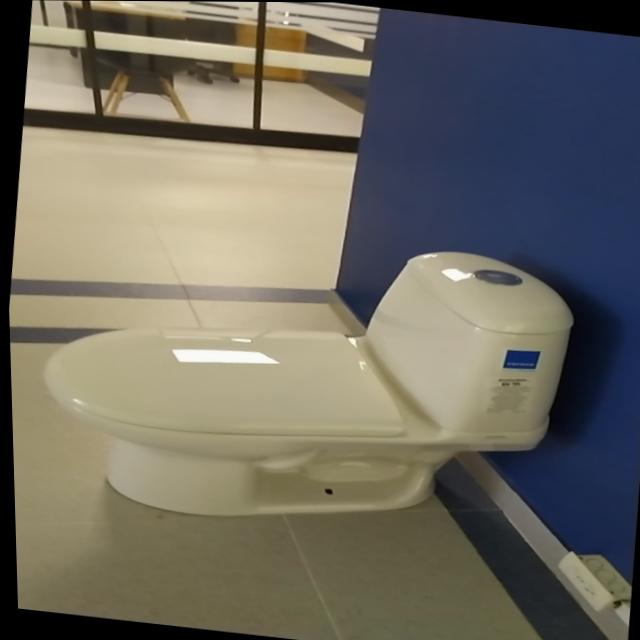toilet: (23, 205, 584, 555)
